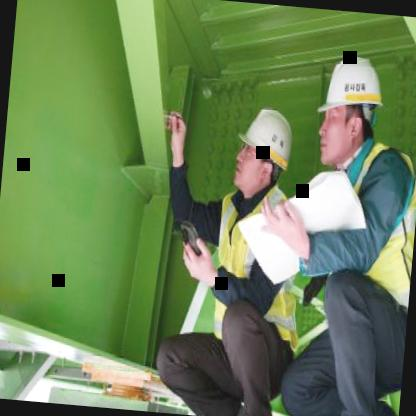helmet: (312, 48, 392, 172), (228, 104, 302, 209)
